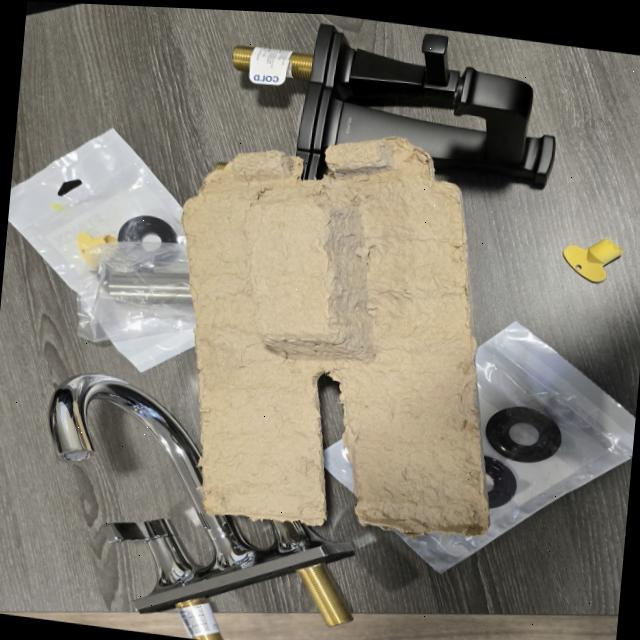11o: (78, 241, 194, 363)
12o: (8, 128, 195, 371)
13o: (389, 322, 635, 572), (323, 439, 354, 492)
14: (563, 238, 623, 282)
9o: (49, 374, 354, 640), (232, 24, 555, 182)
